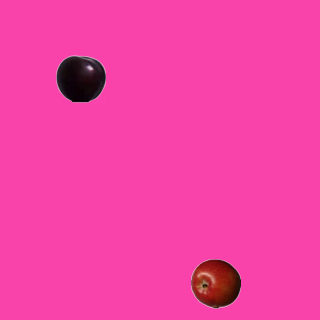Apple Braeburn: (190, 258, 240, 308)
Cherry Wax Black: (55, 53, 105, 103)
